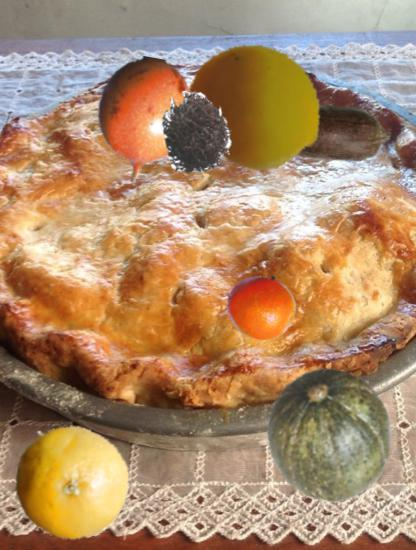Granadilla: (80, 57, 206, 183)
Grapefruit: (12, 422, 131, 541)
Melon: (263, 367, 399, 503)
Nut: (283, 78, 394, 189)
Peach: (187, 37, 326, 176)
Rambutan: (156, 89, 240, 173)
Tangelo: (226, 271, 297, 342)
